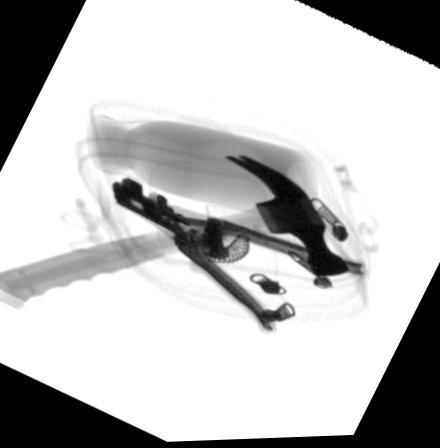Hammer: (0, 158, 348, 315)
Pliers: (110, 179, 366, 336)
